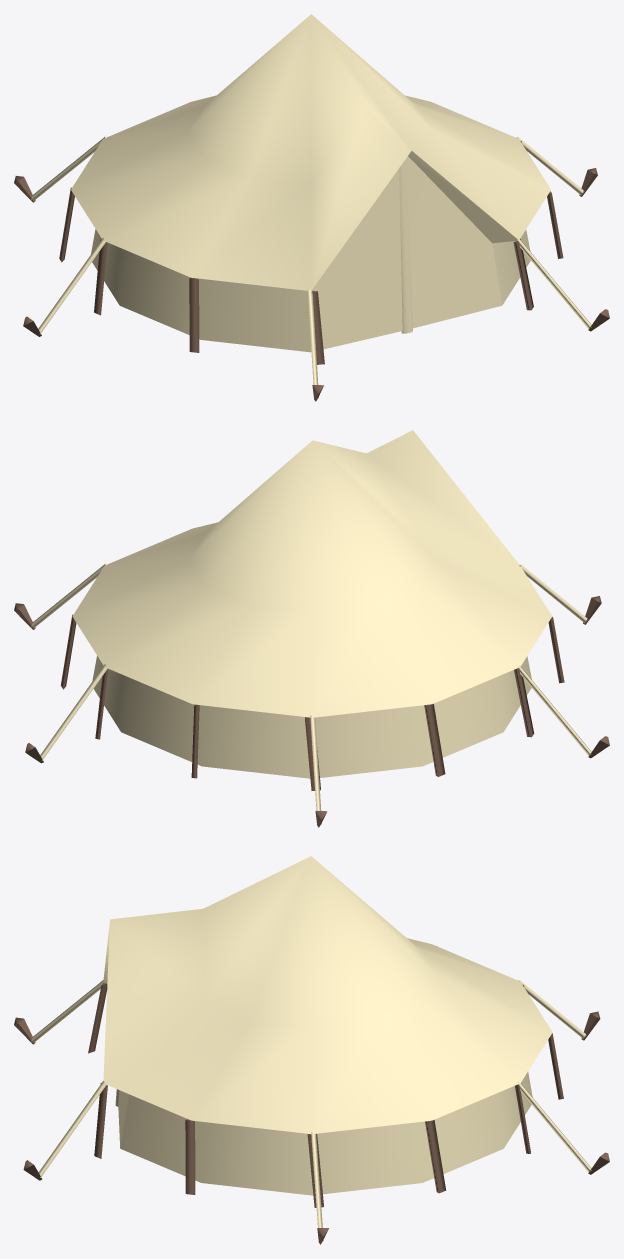
The model's file is mdl_tent01.fbx.
The picture shows the model from 3 angles, top to bottom: view 1: azimuth 30°, elevation 25°; view 2: azimuth 150°, elevation 25°; view 3: azimuth 270°, elevation 25°; orthographic projection.
Parts seen in each view (by area): view 1: mdl_tent02; view 2: mdl_tent02; view 3: mdl_tent02.
Part boxes in pixels (<box>): mdl_tent02: <box>14,14,609,401</box>; mdl_tent02: <box>14,430,609,827</box>; mdl_tent02: <box>14,856,609,1244</box>.
Bounding box in the file's own units: 172 × 71.02 × 151.
Materials: 1 (1 with a texture image).
